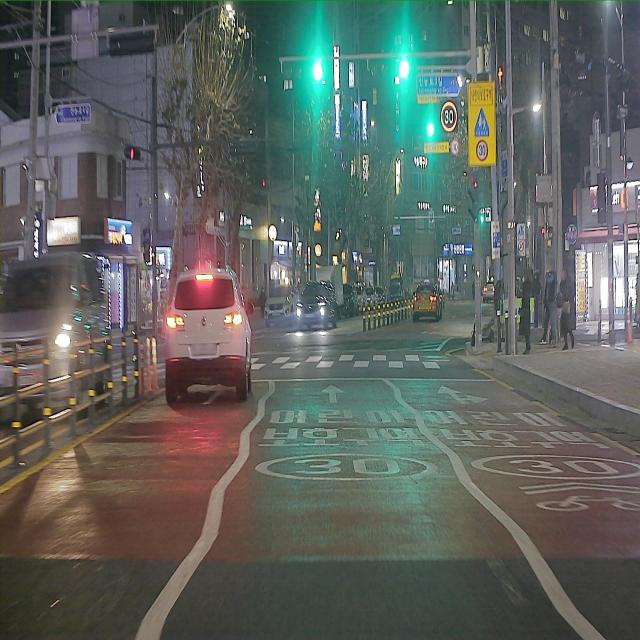Green Light: (312, 61, 324, 81), (398, 59, 409, 79)
